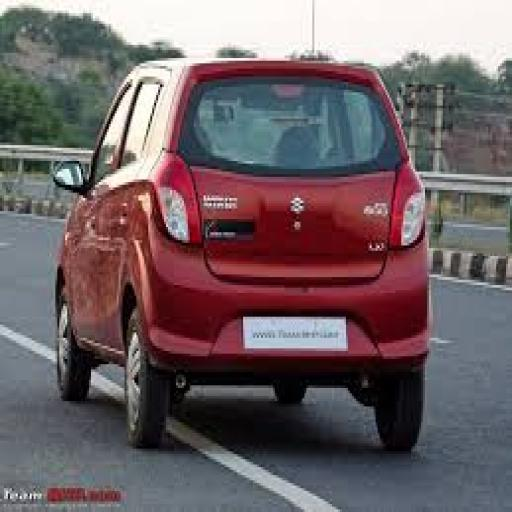License: (241, 312, 349, 353)
